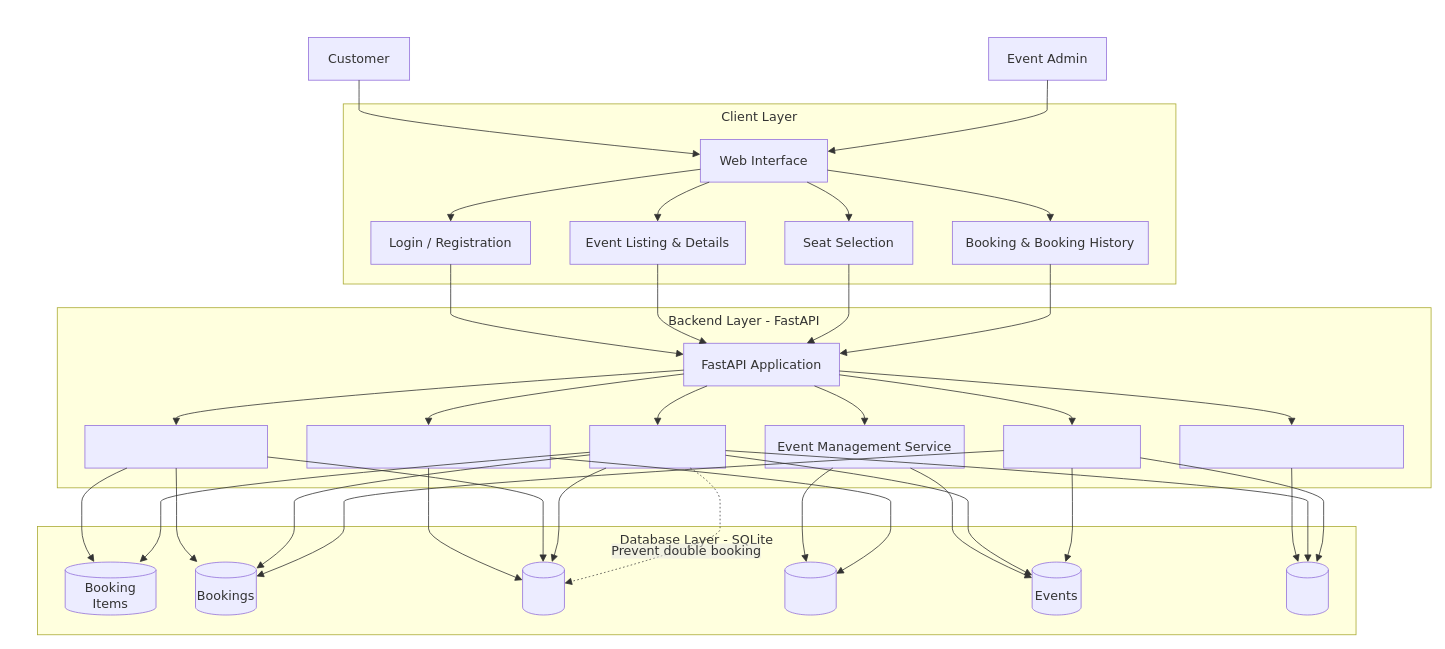
Image size: 1445x649. Some labels were removed from this diagram. The centre of each missing label's shape, as x and y in pixels:
Authentication & Authorization: point (1291, 446)
Booking Service: point (657, 446)
Input Validation: point (1071, 446)
Seat Availability Service: point (175, 446)
Seats: point (543, 588)
Users: point (1307, 588)
Venue & Seat Management Service: point (428, 446)
Venues: point (810, 588)
